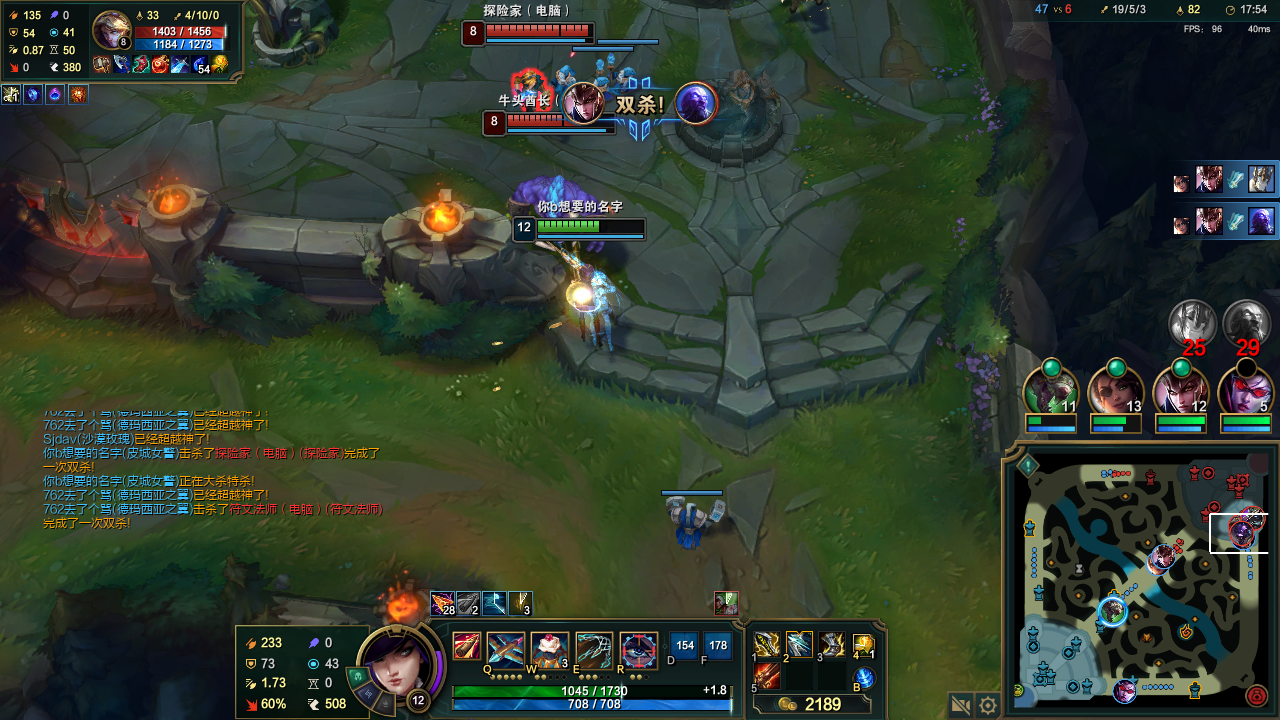DFYX: (504, 117, 621, 131), (484, 25, 587, 35)
WFXB: (656, 498, 735, 550), (605, 53, 647, 97), (551, 66, 581, 88), (588, 67, 606, 84)
